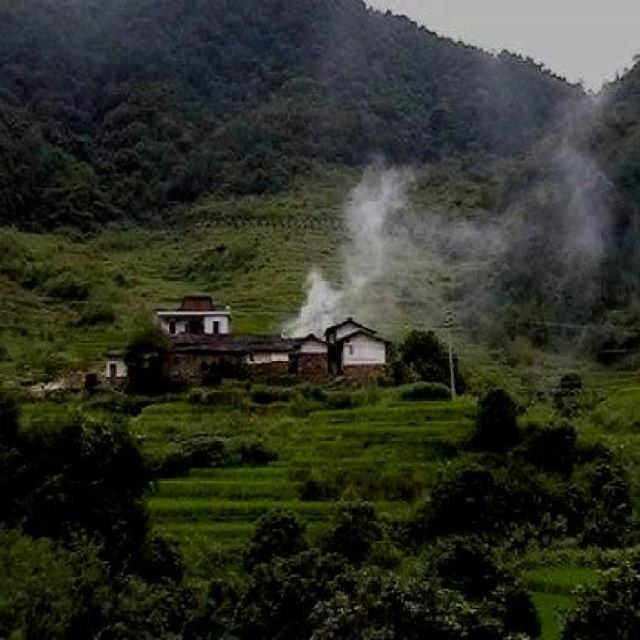Smoke: (275, 36, 640, 346)
